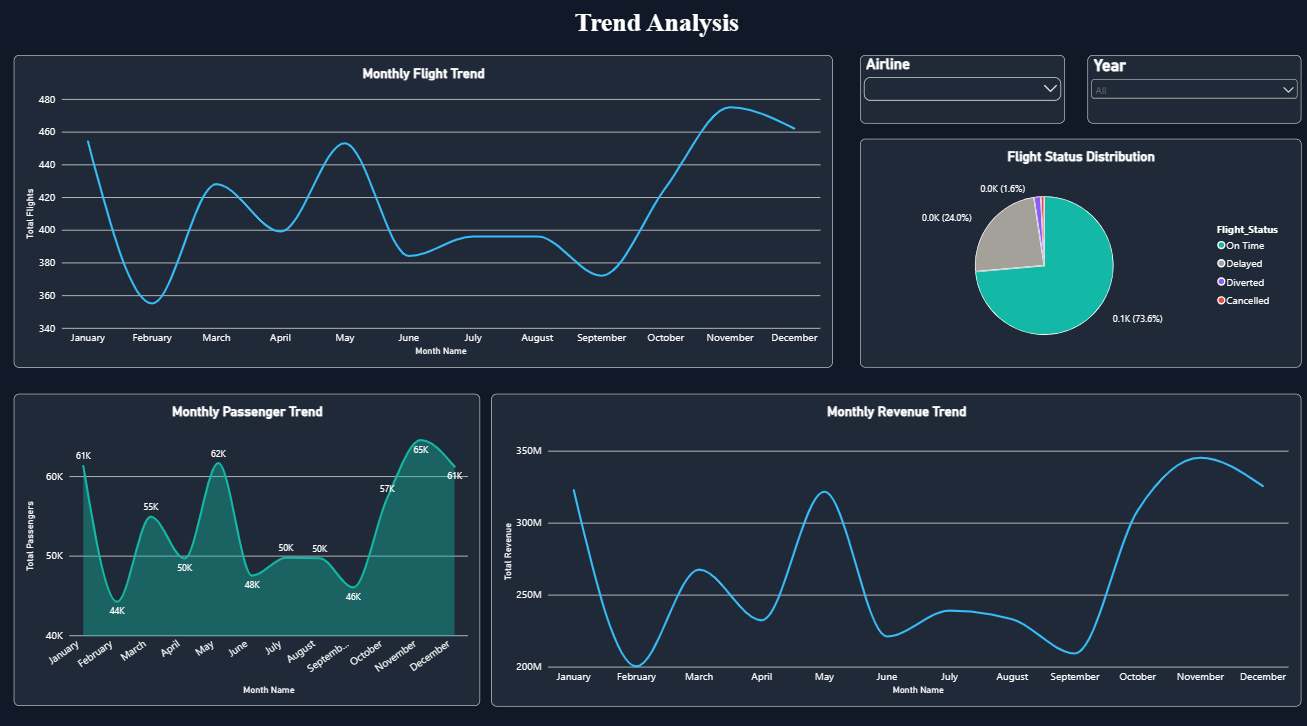

Layout of this report page (visuals, bound fields, positions):
{"tool":"powerbi","page":{"name":"Trend Analysis","canvas":[1920,1080],"ordinal":4},"visuals":[{"type":"textbox","box":[10.9,0,1909.2,77.8],"z":0},{"type":"slicer","title":"Airlane","fields":{"Values":["Indian_Airline_Flights_2024_2025.Airline"]},"box":[1259.5,86.9,296.8,99.5],"z":1000},{"type":"slicer","fields":{"Values":["DateTable.Year"]},"box":[1588.9,86.9,309.5,99.5],"z":2000},{"type":"lineChart","title":"Monthly Revenue Trend","fields":{"Category":["DateTable.Month Name"],"Y":["Indian_Airline_Flights_2024_2025.Total Revenue"]},"box":[725.7,577.3,1172.7,452.4],"z":3000},{"type":"areaChart","title":"Monthly Passenger Trend","fields":{"Y":["Indian_Airline_Flights_2024_2025.Total Passengers"],"Category":["DateTable.Month Name"]},"box":[34.4,577.3,675,452],"z":4000},{"type":"lineChart","title":"Monthly Flight Trend","fields":{"Category":["DateTable.Month Name"],"Y":["Indian_Airline_Flights_2024_2025.Total Flights"]},"box":[34.4,86.9,1185.3,452.4],"z":5000},{"type":"pieChart","title":"Flight Status Distribution","fields":{"Category":["Indian_Airline_Flights_2024_2025.Flight_Status"],"Y":["Indian_Airline_Flights_2024_2025.Total Flights"]},"box":[1259.5,208.1,638.8,331.2],"z":6000}]}

Visuals, with their boxes in screenshot pixels (x1, y1, x2, y2), scaled from the page's 1920x1080 canvas onto the 1307x726 screenshot:
textbox: crop(7, 0, 1306, 52)
"Airlane" slicer: crop(857, 58, 1059, 125)
slicer - DateTable.Year: crop(1082, 58, 1292, 125)
"Monthly Revenue Trend" lineChart: crop(494, 388, 1292, 692)
"Monthly Passenger Trend" areaChart: crop(23, 388, 483, 692)
"Monthly Flight Trend" lineChart: crop(23, 58, 830, 363)
"Flight Status Distribution" pieChart: crop(857, 140, 1292, 363)
